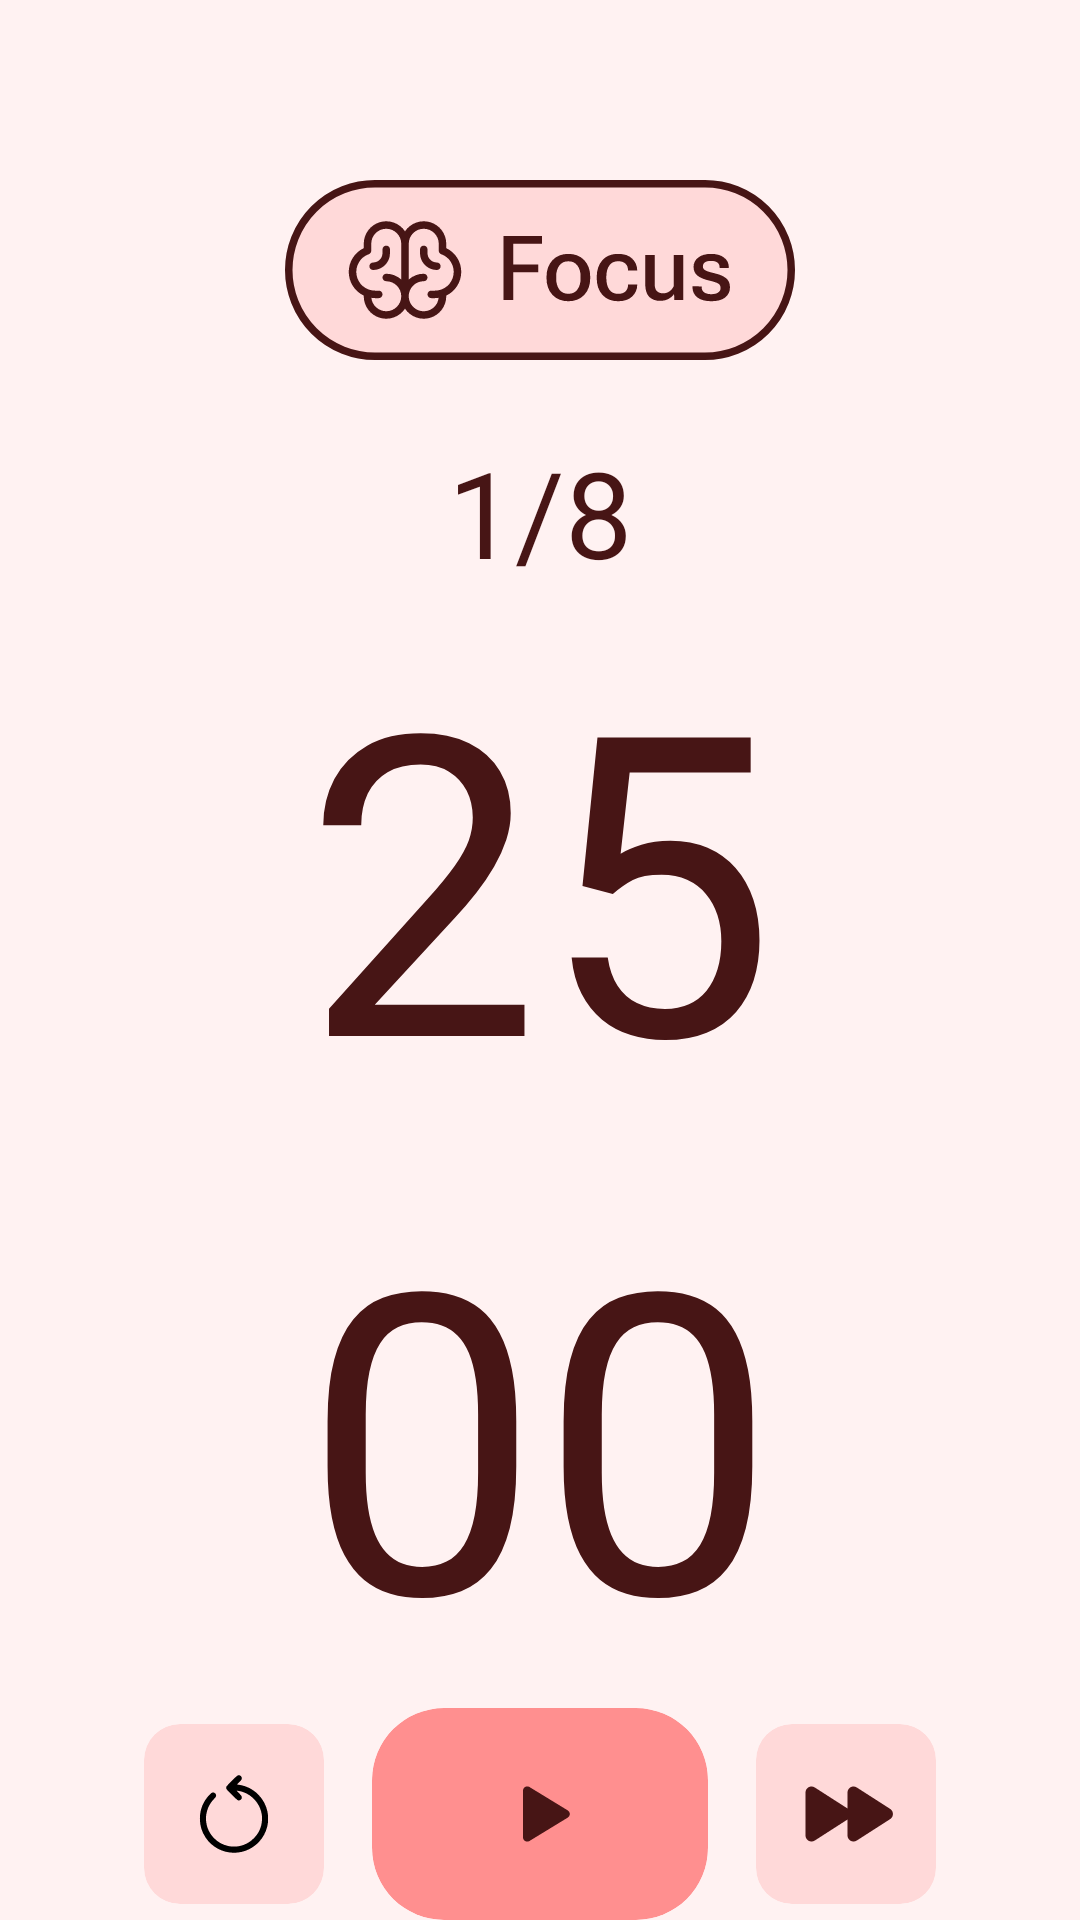

Icons on this 1080 × 1920 Android screen, each with the point to tap as (x=x, y=y):
fast forward: (x=849, y=1814)
play: (x=546, y=1814)
restart: (x=234, y=1814)
